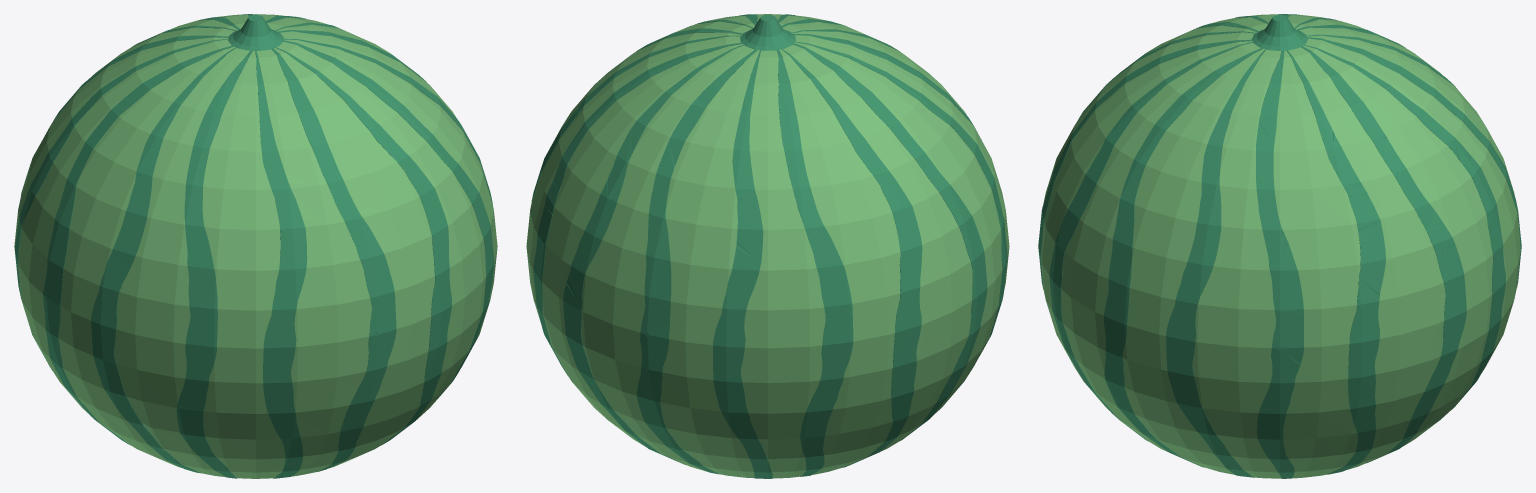
The model's file is melon_1.glb.
3 renders of one model, left to right at view 1: azimuth 30°, elevation 25°; view 2: azimuth 150°, elevation 25°; view 3: azimuth 270°, elevation 25°, orthographic.
Parts seen in each view (by area): view 1: Mesh_Mesh_head_geo.001_lambert2SG.001; view 2: Mesh_Mesh_head_geo.001_lambert2SG.001; view 3: Mesh_Mesh_head_geo.001_lambert2SG.001.
Part boxes in pixels (<box>): Mesh_Mesh_head_geo.001_lambert2SG.001: <box>14,14,497,478</box>; Mesh_Mesh_head_geo.001_lambert2SG.001: <box>526,14,1009,478</box>; Mesh_Mesh_head_geo.001_lambert2SG.001: <box>1038,14,1521,478</box>.
Bounding box in the file's own units: 10 × 10 × 10.
